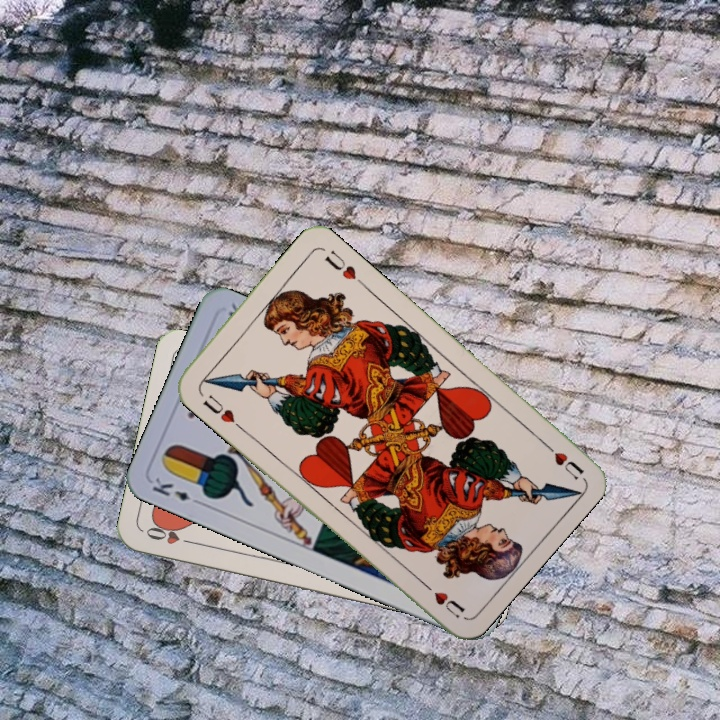EK: (148, 473, 205, 508)
HO: (142, 521, 199, 548)
HU: (537, 436, 586, 482), (199, 391, 244, 431)
